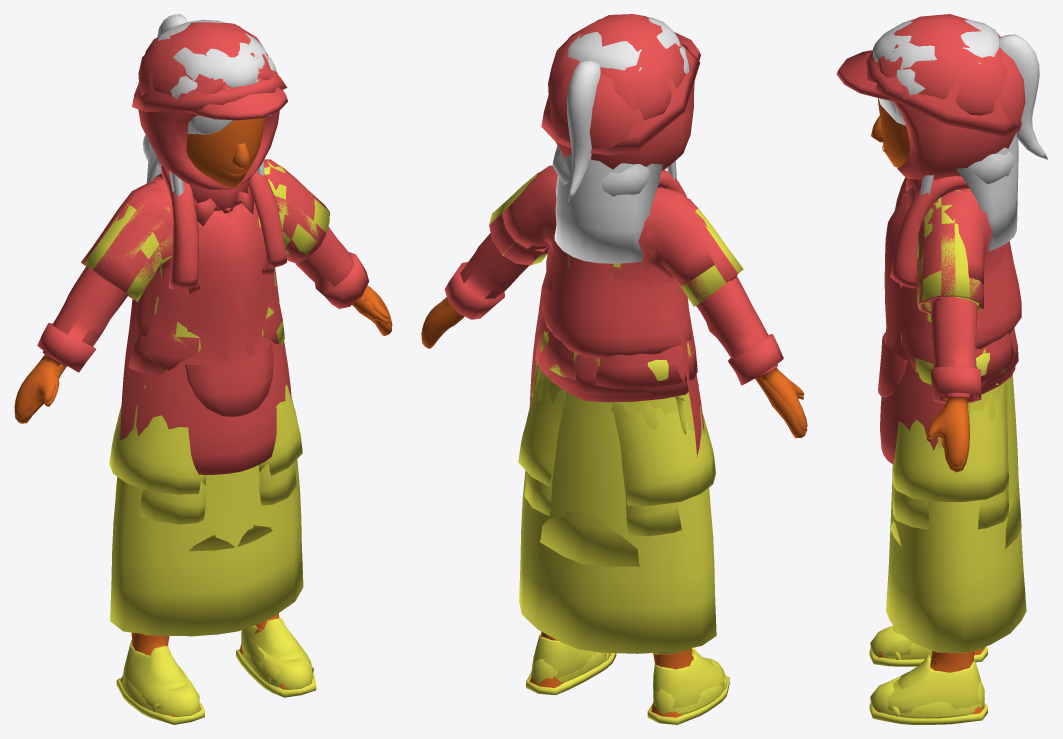
The model's file is NPC_Dewasa.fbx.
The picture shows the model from 3 angles, left to right: view 1: azimuth 30°, elevation 25°; view 2: azimuth 150°, elevation 25°; view 3: azimuth 270°, elevation 25°; orthographic projection. The views are drawn at different scales.
Parts seen in each view (by area): view 1: RokPanjang2, BajuLenganPanjangIbuPenjual, BajuPolo_Panjang, BajuLenganPendek1, CelanaPendek1, RambutTopi_Test, BajuAngkot, Sepatu2, BajuPasar, Head, BajuLenganPanjang1, CelanaPendek2 (+11 smaller); view 2: RokPanjang2, BajuLenganPendek1, BajuLenganPendek2, CelanaPendek1, BajuLenganPanjangIbuPenjual, RambutCewe2, BajuPolo_Panjang, RambutTopi_Test, BajuLenganPanjang1, RambutAngkot, Hijab1, Sepatu2 (+11 smaller); view 3: RokPanjang2, BajuLenganPanjangIbuPenjual, CelanaPendek1, RambutTopi_Test, BajuLenganPendek1, BajuPolo_Pendek, RambutAngkot, Hijab1, RambutCewe2, Sepatu2, BajuPasar, BajuLenganPendek2 (+12 smaller).
Part boxes in pixels (x1,y1,x2,y2): RokPanjang2: (110,404,303,636); BajuLenganPanjangIbuPenjual: (15,173,389,474); BajuPolo_Panjang: (14,164,392,417); BajuLenganPendek1: (15,159,388,423); CelanaPendek1: (109,385,302,494); RambutTopi_Test: (138,22,287,120); BajuAngkot: (16,166,286,423); Sepatu2: (122,617,312,708); BajuPasar: (83,161,388,372); Head: (186,117,265,188); BajuLenganPanjang1: (52,176,391,367); CelanaPendek2: (115,459,296,524); RokPanjang2: (519,331,716,653); BajuLenganPendek1: (425,165,807,438); BajuLenganPendek2: (541,202,737,358); CelanaPendek1: (518,377,715,505); BajuLenganPanjangIbuPenjual: (444,188,803,456); RambutCewe2: (554,46,689,263); BajuPolo_Panjang: (421,173,807,431); RambutTopi_Test: (548,14,700,119); BajuLenganPanjang1: (424,233,796,437); RambutAngkot: (541,16,700,155); Hijab1: (549,63,694,169); Sepatu2: (532,634,725,708); RokPanjang2: (886,352,1026,652); BajuLenganPanjangIbuPenjual: (878,191,1018,472); CelanaPendek1: (892,381,1008,501); RambutTopi_Test: (836,14,997,115); BajuLenganPendek1: (885,191,1015,394); BajuPolo_Pendek: (901,187,1014,472); RambutAngkot: (866,29,1021,136); Hijab1: (879,51,1023,195); RambutCewe2: (878,69,1018,251); Sepatu2: (885,627,981,712); BajuPasar: (901,190,1011,437); BajuLenganPendek2: (897,211,1021,348).
Size of the model in its own units: 150 by 251 by 72.53.
